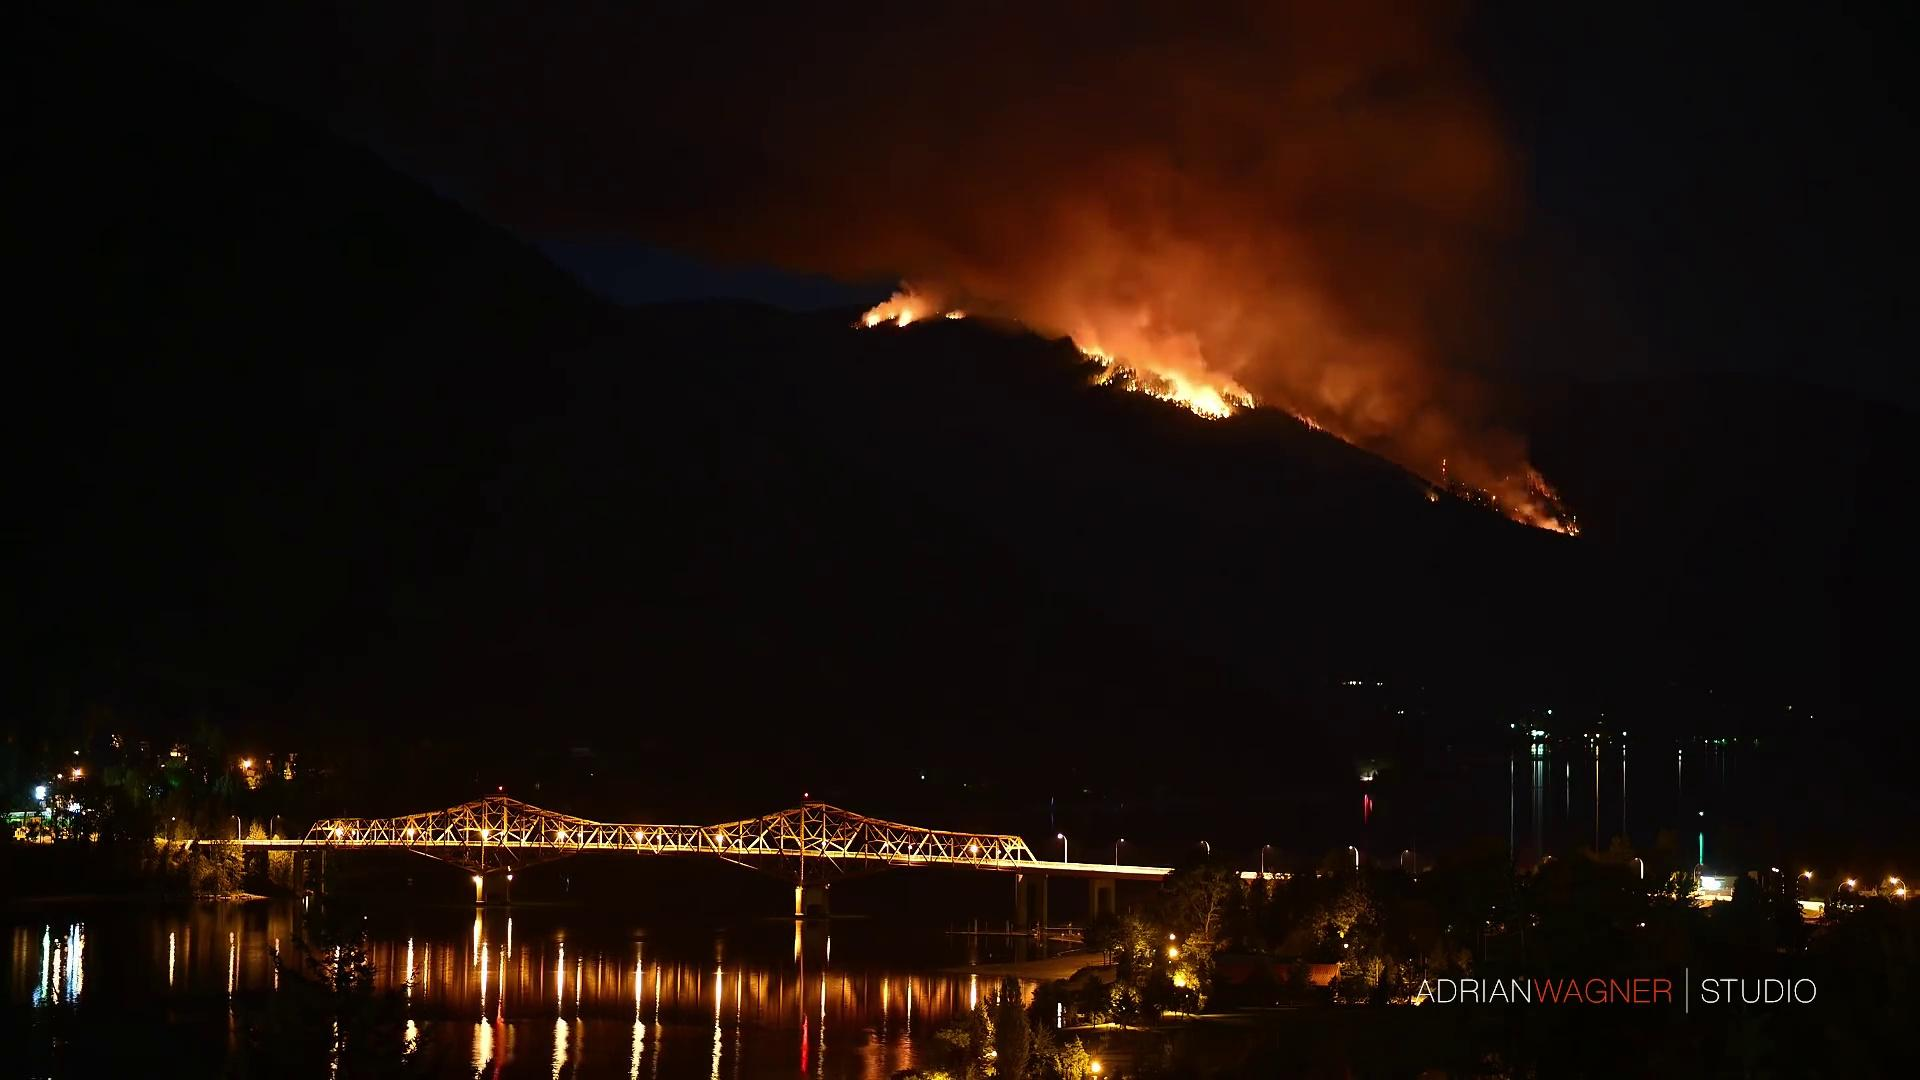fire: (1160, 363, 1240, 440)
